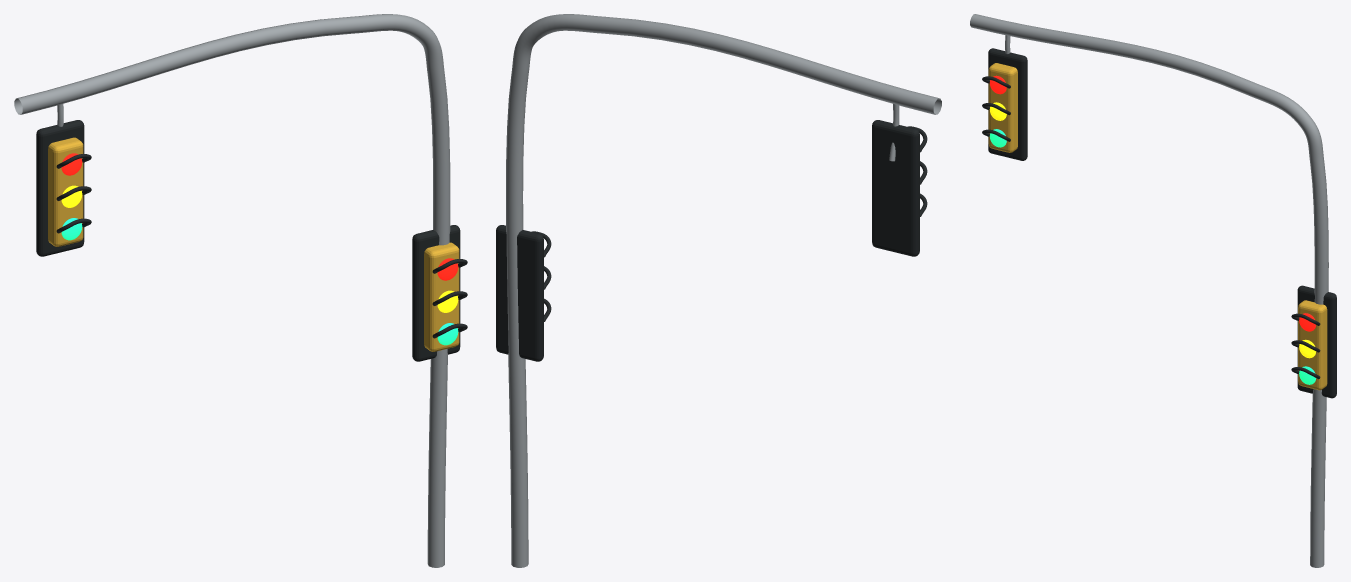
File: traffic-signal.glb
The picture shows the model from 3 angles, left to right: view 1: azimuth 30°, elevation 25°; view 2: azimuth 150°, elevation 25°; view 3: azimuth 330°, elevation 25°; orthographic projection. The views are drawn at different scales.
Parts seen in each view (by area): view 1: Curved signal mast, Signal backboard, Three aspect enclosure, Three aspect enclosure.001, Signal backboard.001; view 2: Curved signal mast, Signal backboard, Signal backboard.001; view 3: Curved signal mast, Three aspect enclosure.001, Three aspect enclosure, Signal backboard, Signal backboard.001.
Part boxes in pixels (x1,y1,x2,y2): Curved signal mast: (14, 14, 450, 567); Signal backboard: (36, 120, 84, 256); Three aspect enclosure: (48, 137, 83, 246); Three aspect enclosure.001: (424, 242, 459, 351); Signal backboard.001: (412, 225, 460, 361); Curved signal mast: (506, 14, 941, 567); Signal backboard: (872, 120, 919, 256); Signal backboard.001: (496, 225, 543, 361); Curved signal mast: (970, 14, 1328, 567); Three aspect enclosure.001: (1298, 300, 1327, 390); Three aspect enclosure: (988, 63, 1017, 152); Signal backboard: (988, 48, 1027, 160); Signal backboard.001: (1297, 285, 1336, 398).
Bounding box in the file's own units: 5.28 × 6.61 × 0.5218.
